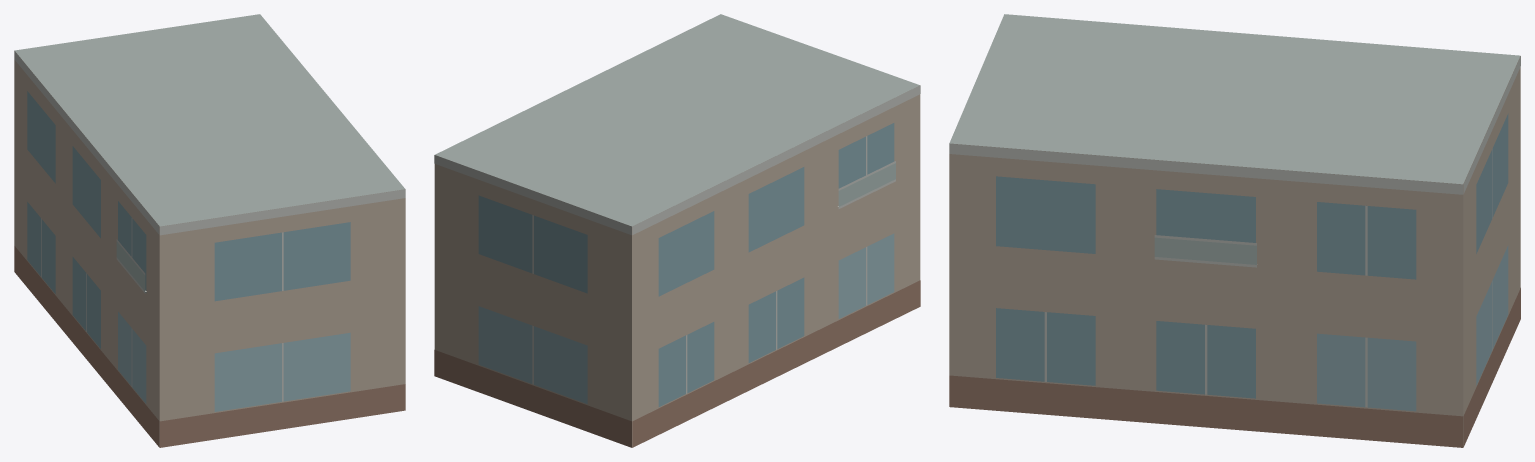
Rendered from survey-upis-32512205.glb.
3 views of the same model, side by side, from view 1: azimuth 30°, elevation 25°; view 2: azimuth 150°, elevation 25°; view 3: azimuth 270°, elevation 25° (orthographic). The views are drawn at different scales.
Visible parts, largest first — view 1: survey-upis-32512205.tmp; view 2: survey-upis-32512205.tmp; view 3: survey-upis-32512205.tmp.
Part boxes in pixels (bbox=[...]): survey-upis-32512205.tmp: bbox=[14, 14, 405, 447]; survey-upis-32512205.tmp: bbox=[434, 14, 920, 447]; survey-upis-32512205.tmp: bbox=[949, 14, 1520, 447].
Bounding box in the file's own units: 8.46 × 6.1 × 12.
